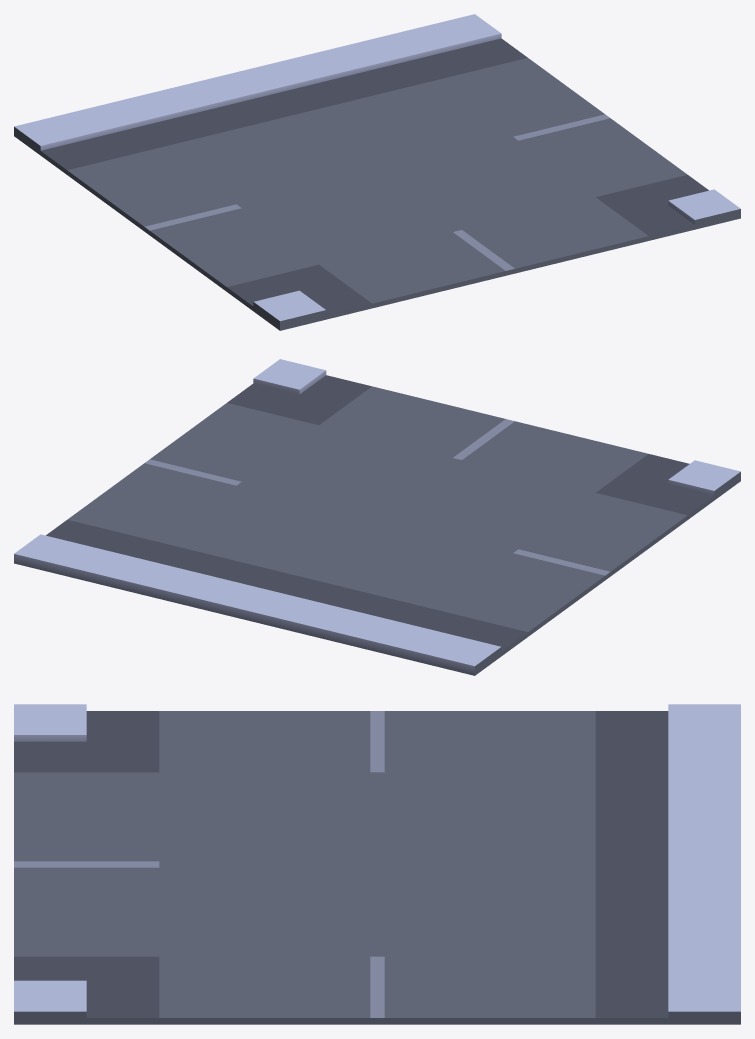
The model's file is roads.road_intersection.glb.
3 renders of one model, top to bottom at view 1: azimuth 30°, elevation 25°; view 2: azimuth 150°, elevation 25°; view 3: azimuth 270°, elevation 25°, orthographic. The views are drawn at different scales.
Visible parts, largest first — view 1: road-intersection; view 2: road-intersection; view 3: road-intersection.
Part boxes in pixels (left/top/right/bottom): road-intersection: left=14, top=14, right=740, bottom=330; road-intersection: left=14, top=359, right=740, bottom=675; road-intersection: left=14, top=704, right=740, bottom=1024.
Size of the model in its own units: 7.45 by 0.1491 by 7.45.
1 material, 1 textured.
